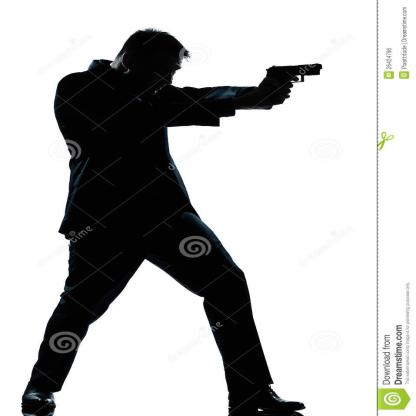handgun: (264, 63, 326, 95)
